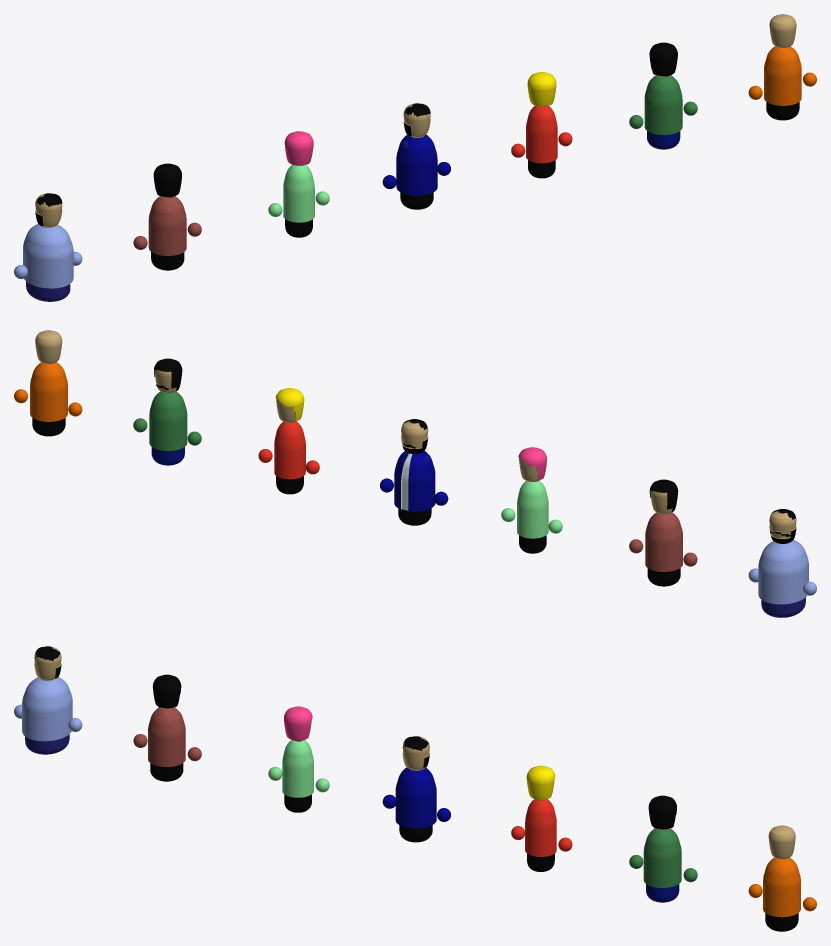
Rendered from NPC.fbx.
3 renders of one model, top to bottom at view 1: azimuth 30°, elevation 25°; view 2: azimuth 150°, elevation 25°; view 3: azimuth 330°, elevation 25°, orthographic.
Parts seen in each view (by area): view 1: Cylinder.006, Cylinder.003, Cylinder.005, Cylinder.001, Cylinder, Cylinder.002, Cylinder.004, Circle.002, Circle.004, Circle.001, Circle.005, Circle.007 (+2 smaller); view 2: Cylinder.006, Cylinder.003, Cylinder.001, Cylinder, Cylinder.005, Cylinder.002, Cylinder.004, Circle.002, Circle.004, Circle.007, Circle.005, Circle.003 (+2 smaller); view 3: Cylinder.006, Cylinder.003, Cylinder.001, Cylinder, Cylinder.005, Cylinder.004, Cylinder.002, Circle.002, Circle.004, Circle.001, Circle.005, Circle.003 (+2 smaller).
Part boxes in pixels (<box>): Cylinder.006: <box>23,224,73,301</box>; Cylinder.003: <box>396,134,437,209</box>; Cylinder.005: <box>148,196,186,270</box>; Cylinder.001: <box>644,75,682,149</box>; Cylinder: <box>764,46,801,120</box>; Cylinder.002: <box>526,105,557,178</box>; Cylinder.004: <box>283,165,314,237</box>; Circle.002: <box>527,72,556,106</box>; Circle.004: <box>284,131,313,165</box>; Circle.001: <box>649,42,677,76</box>; Circle.005: <box>153,163,181,197</box>; Circle.007: <box>35,193,62,227</box>; Cylinder.006: <box>758,540,808,617</box>; Cylinder.003: <box>394,451,435,525</box>; Cylinder.001: <box>149,391,187,465</box>; Cylinder: <box>30,362,67,436</box>; Cylinder.005: <box>645,512,682,586</box>; Cylinder.002: <box>274,421,305,494</box>; Cylinder.004: <box>517,480,548,553</box>; Circle.002: <box>275,388,304,422</box>; Circle.004: <box>518,447,546,481</box>; Circle.007: <box>769,509,796,543</box>; Circle.005: <box>649,479,678,513</box>; Circle.003: <box>401,419,428,454</box>; Cylinder.006: <box>22,677,72,754</box>; Cylinder.003: <box>395,767,436,842</box>; Cylinder.001: <box>643,828,681,902</box>; Cylinder: <box>763,857,800,931</box>; Cylinder.005: <box>148,707,185,781</box>; Cylinder.004: <box>282,740,313,812</box>; Cylinder.002: <box>525,799,556,871</box>; Circle.002: <box>526,765,555,800</box>; Circle.004: <box>284,706,312,741</box>; Circle.001: <box>648,795,676,830</box>; Circle.005: <box>152,674,181,709</box>; Circle.003: <box>402,736,429,770</box>.
Bounding box in the file's own units: 4557 × 546 × 275.
